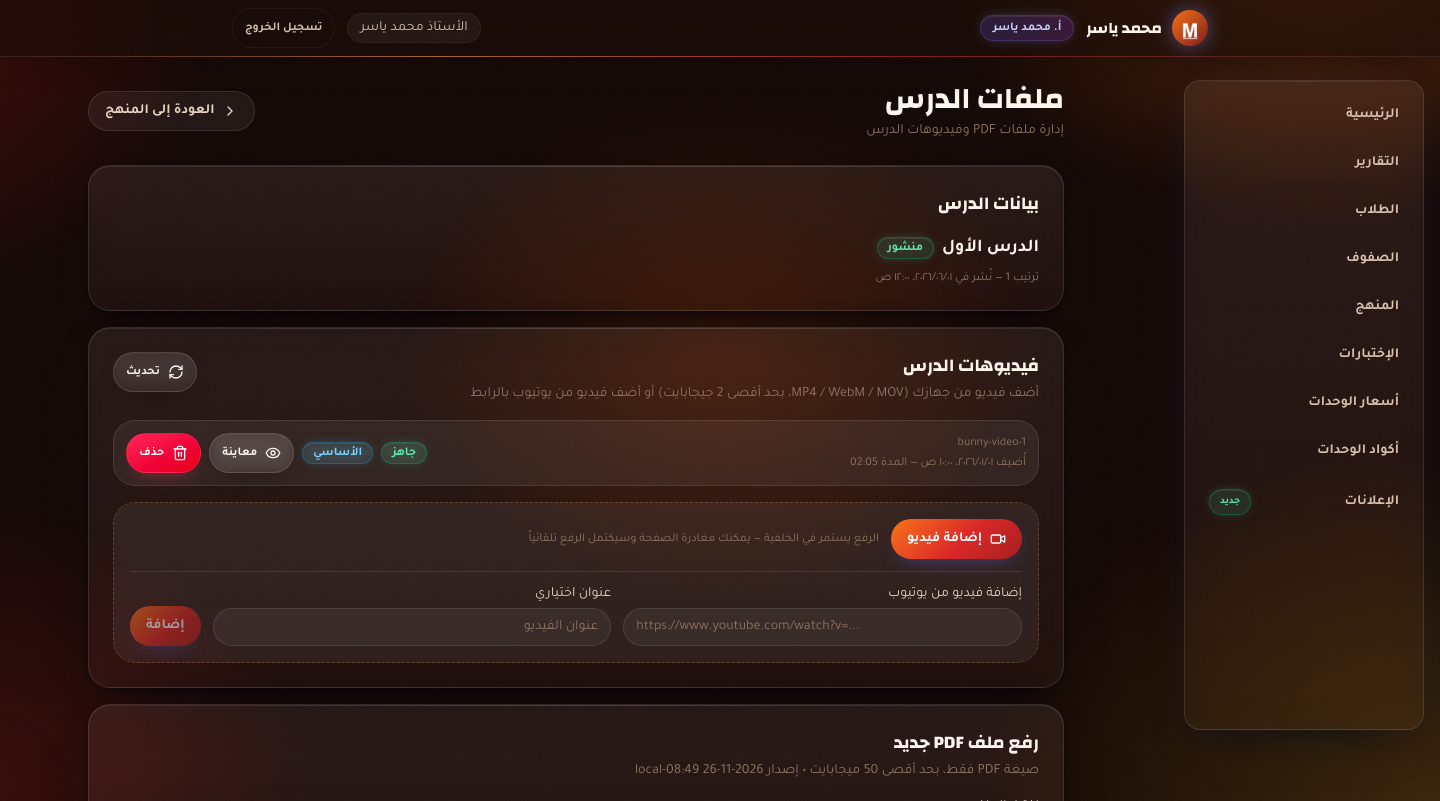
Test case: LessonAssetsPage — video section › maps delete video errors to Arabic toasts
Expected: the list item with test id "video-row-video-1" is shown, [113, 420, 1039, 486]
Click the button "حذف".
click(164, 453)  # box [126, 433, 201, 473]
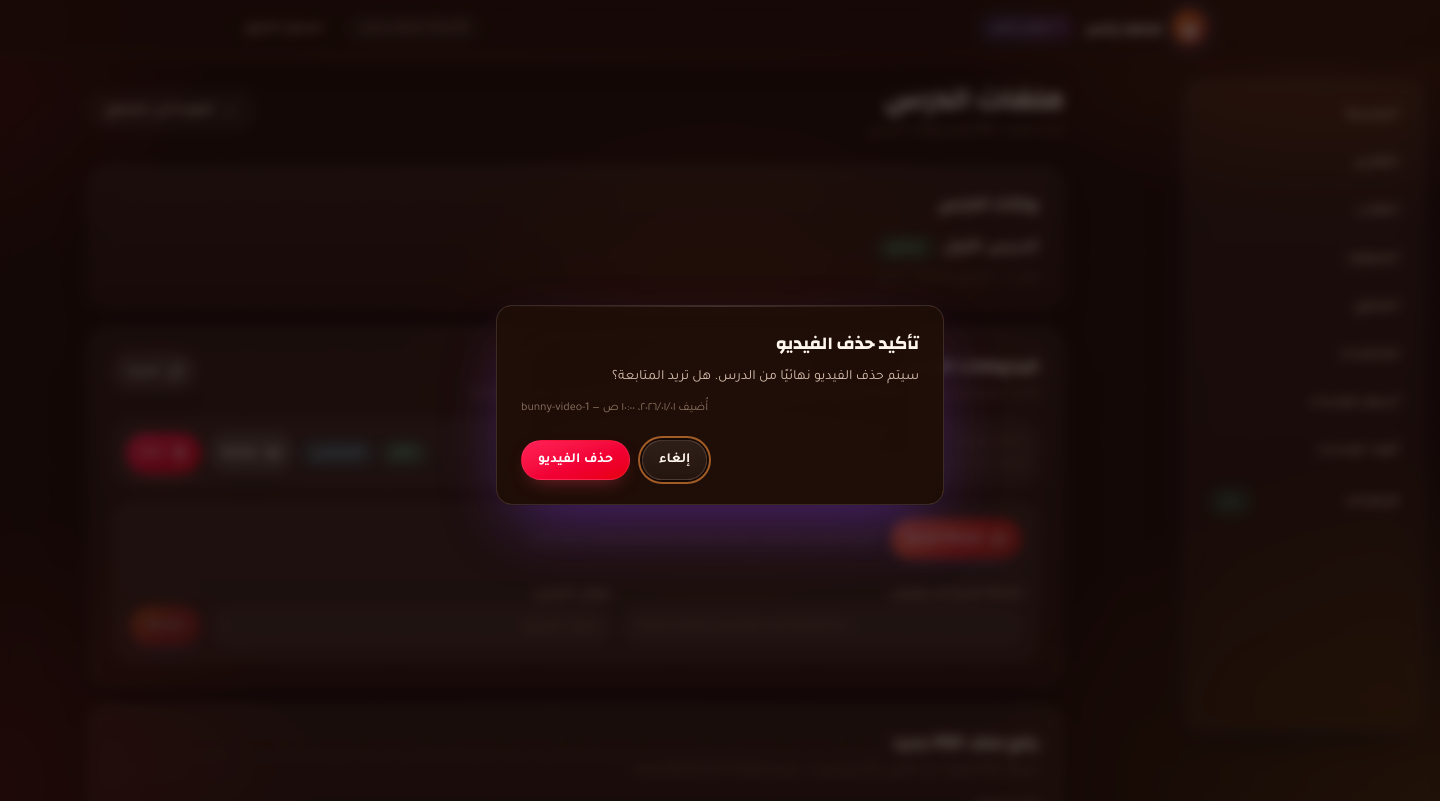
Click the button "حذف الفيديو".
click(576, 460)  # box [521, 440, 630, 480]
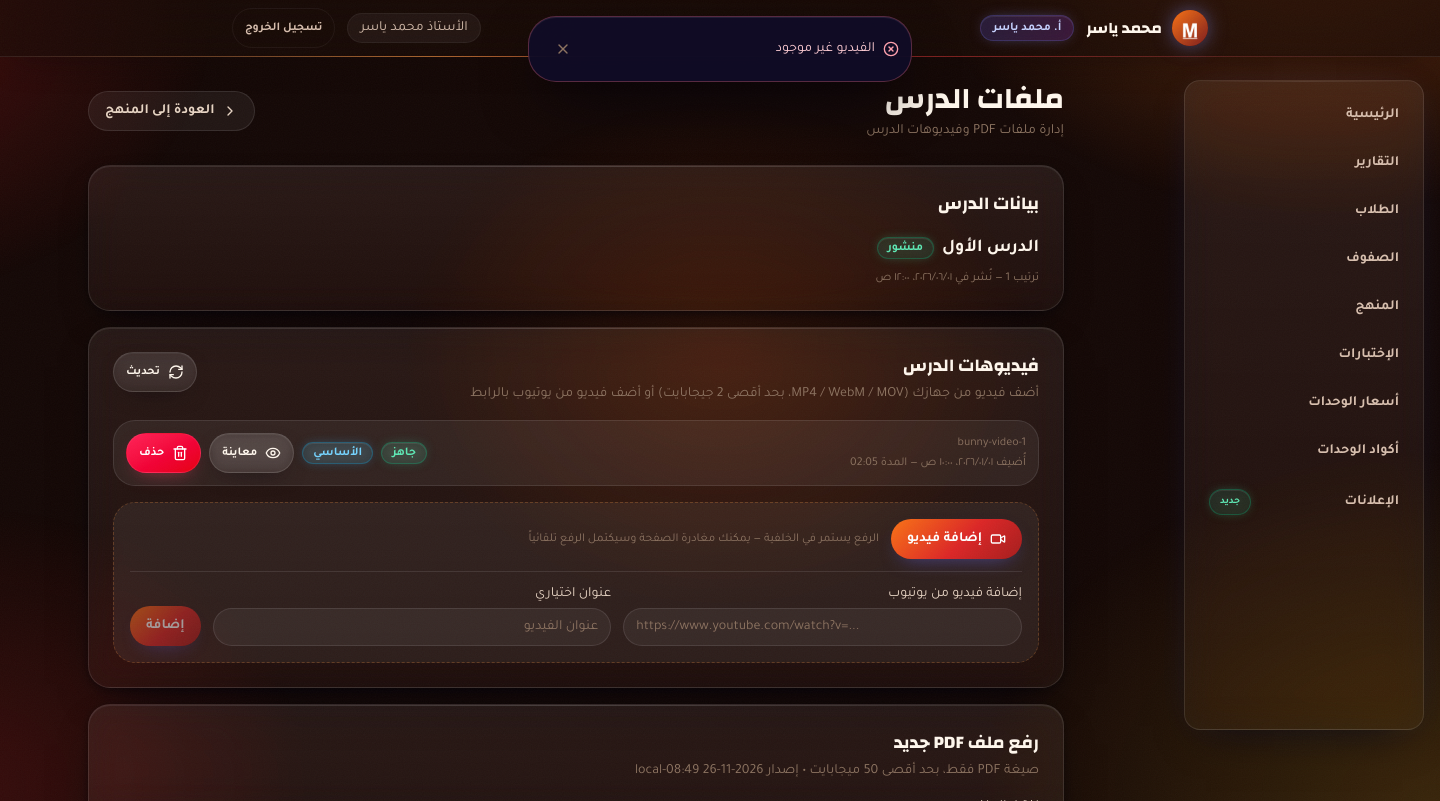
Now the text "الفيديو غير موجود" is shown, box [776, 42, 875, 56]
Click the button "حذف".
click(164, 453)  # box [126, 433, 201, 473]
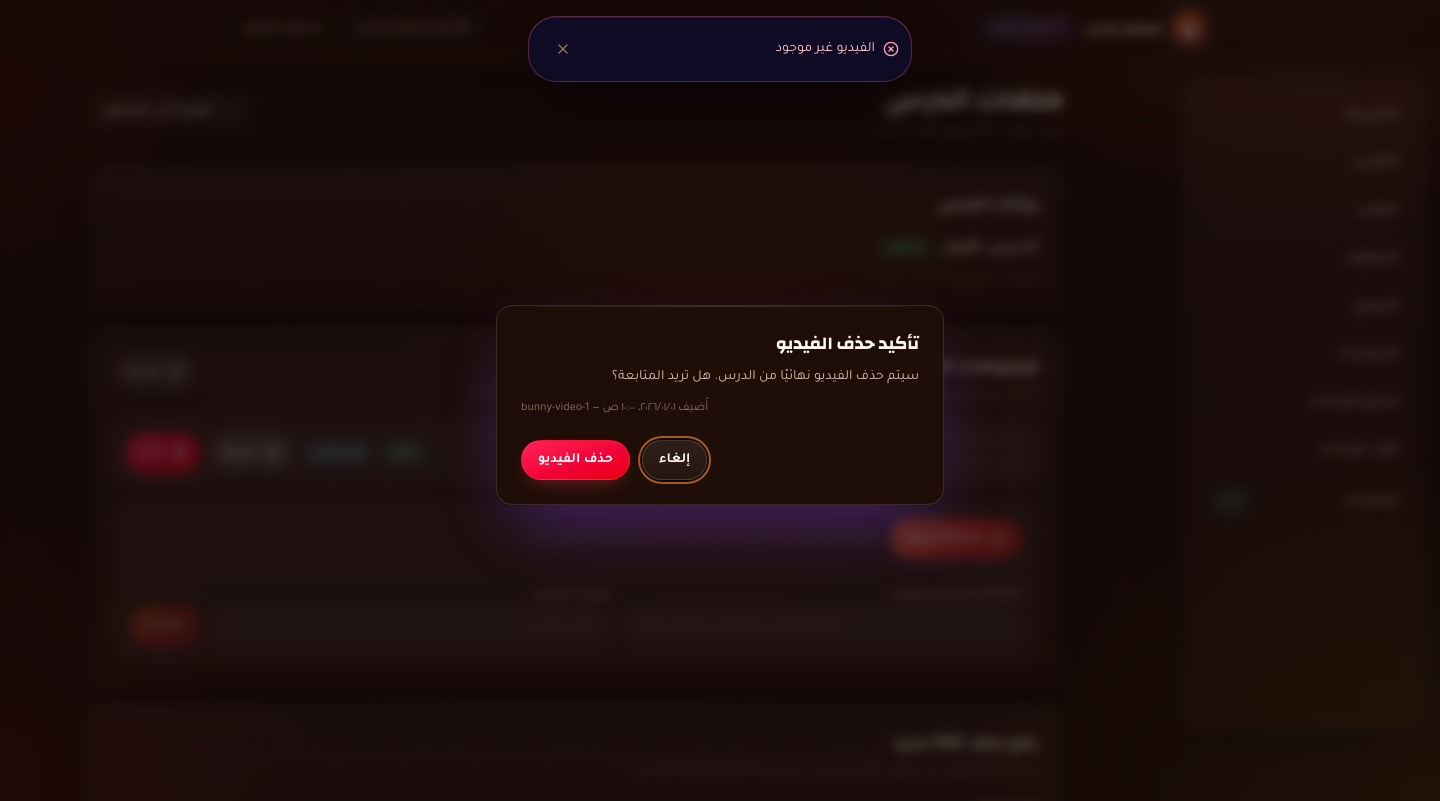
Click the button "حذف الفيديو".
click(576, 460)  # box [521, 440, 630, 480]
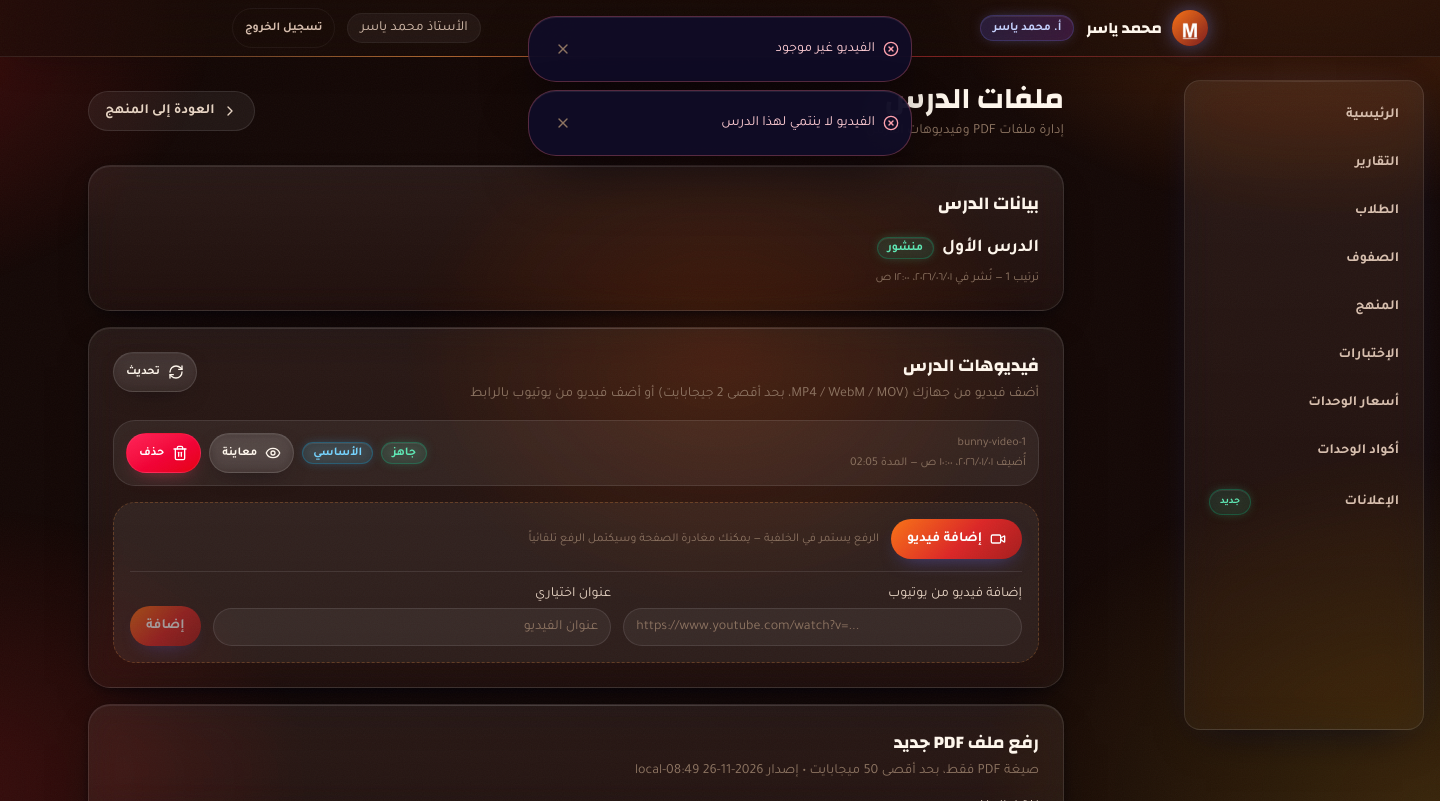
Now the text "الفيديو لا ينتمي لهذا الدرس" is shown, box [721, 116, 875, 130]
